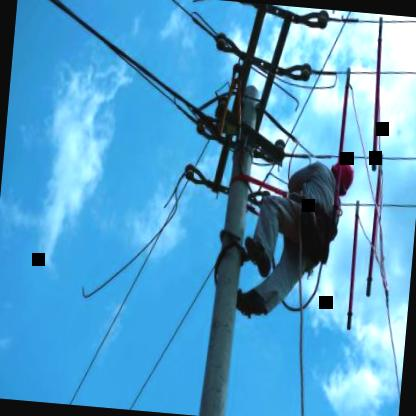helmet: (324, 154, 364, 208)
